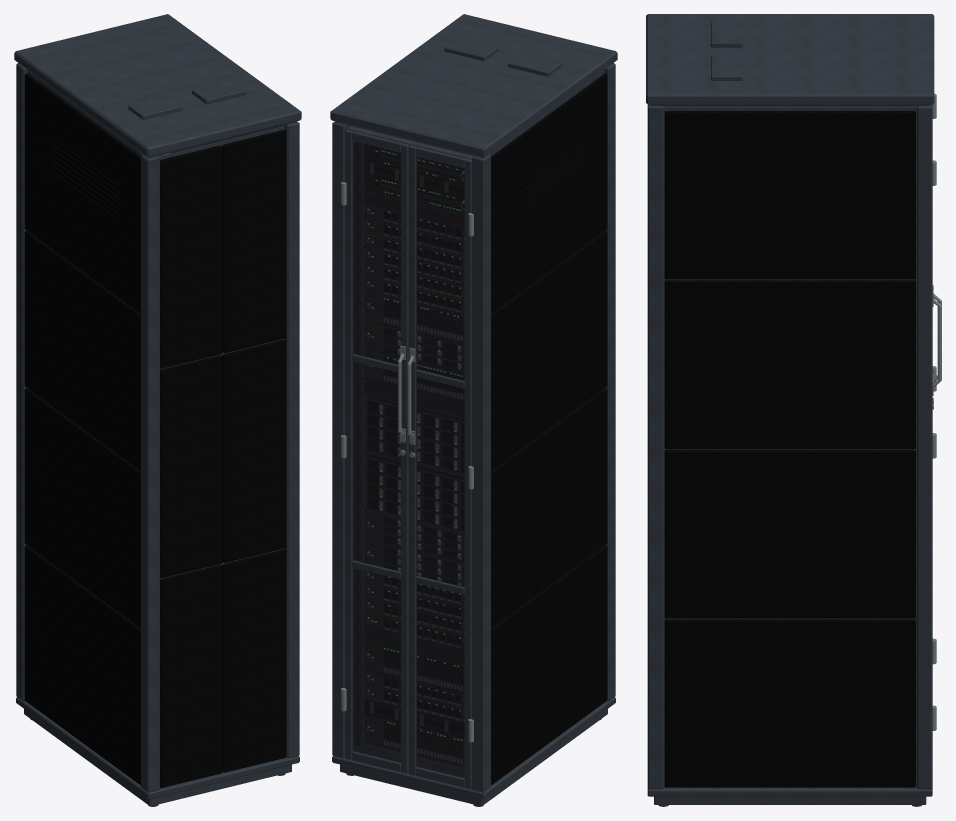
The model's file is server_rack_hero.glb.
3 views of the same model, side by side, from view 1: azimuth 30°, elevation 25°; view 2: azimuth 150°, elevation 25°; view 3: azimuth 270°, elevation 25° (orthographic). The views are drawn at different scales.
Visible parts, largest first — view 1: BackPanel, SidePanels, Frame; view 2: SidePanels, Frame, ServerFace, Door_XP, Door_XN, Rails; view 3: SidePanels, Frame, Door_XP.
Part boxes in pixels (bbox=[...]): BackPanel: bbox=[160, 129, 286, 787]; SidePanels: bbox=[24, 73, 140, 785]; Frame: bbox=[14, 14, 301, 806]; SidePanels: bbox=[491, 73, 607, 785]; Frame: bbox=[330, 14, 617, 806]; ServerFace: bbox=[362, 144, 464, 766]; Door_XP: bbox=[341, 129, 409, 773]; Door_XN: bbox=[407, 145, 473, 789]; Rails: bbox=[355, 142, 362, 746]; SidePanels: bbox=[664, 111, 915, 787]; Frame: bbox=[646, 14, 934, 806]; Door_XP: bbox=[932, 160, 941, 730].
Bounding box in the file's own units: 12.2 × 50.33 × 18.68.
Materials: 8 (5 with a texture image).
